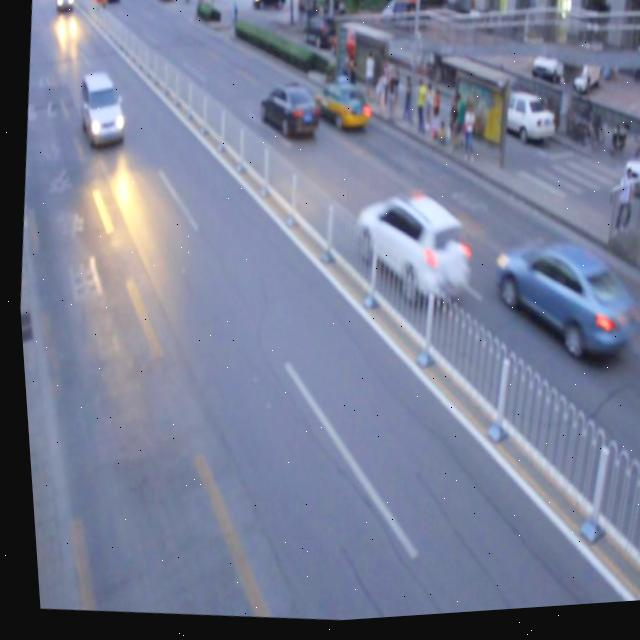car: (477, 230, 639, 378), (342, 187, 475, 321), (252, 78, 319, 149), (306, 78, 372, 142)
truck: (71, 68, 131, 154)
